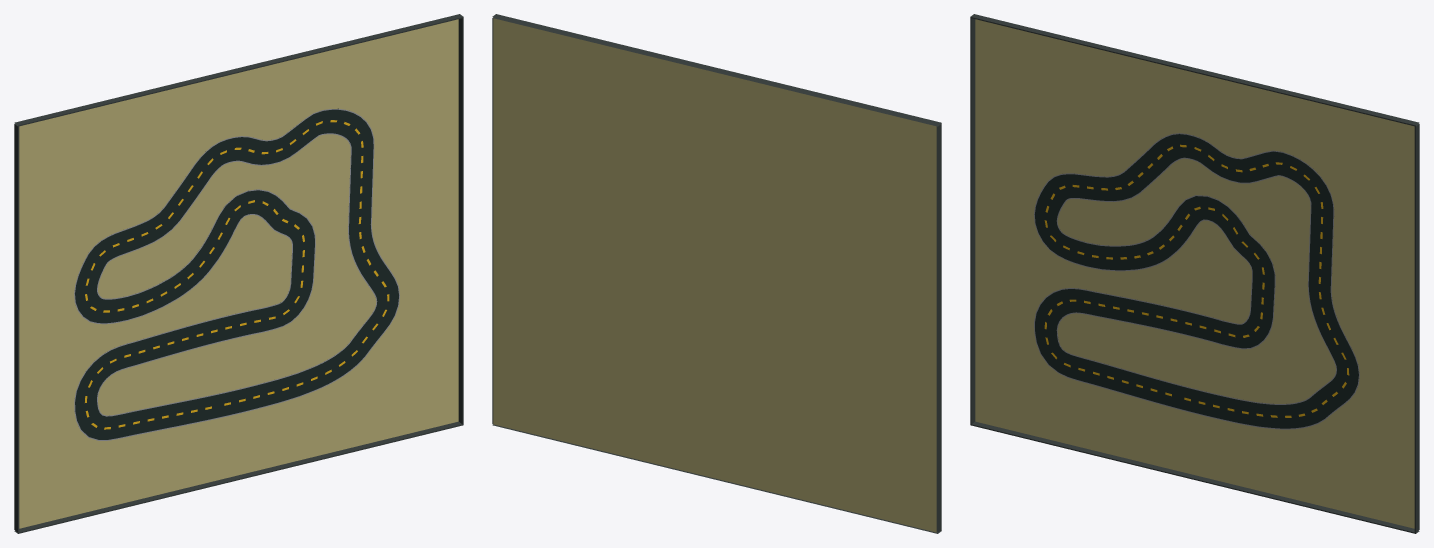
The model's file is track.obj.
3 renders of one model, left to right at view 1: azimuth 30°, elevation 25°; view 2: azimuth 150°, elevation 25°; view 3: azimuth 330°, elevation 25°, orthographic.
Bounding box in the file's own units: 20.02 × 17.54 × 0.3.
